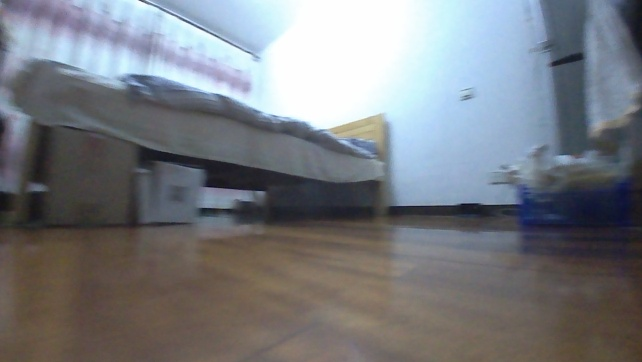bed: (5, 51, 393, 227)
